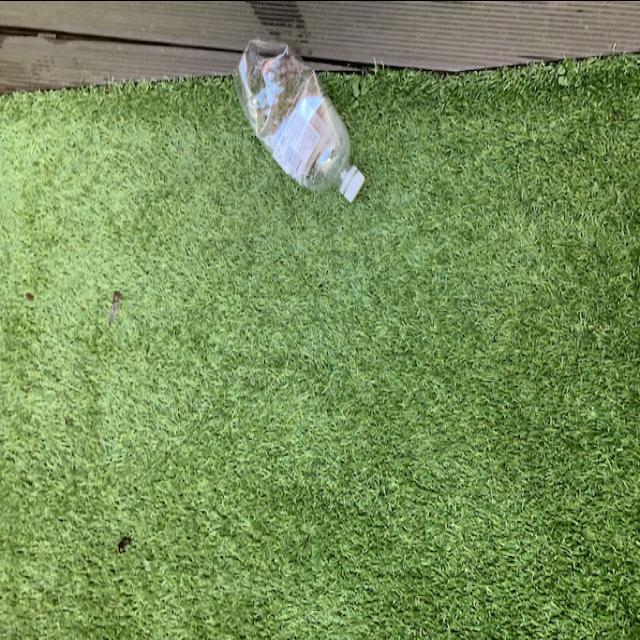litter: (234, 32, 370, 208)
